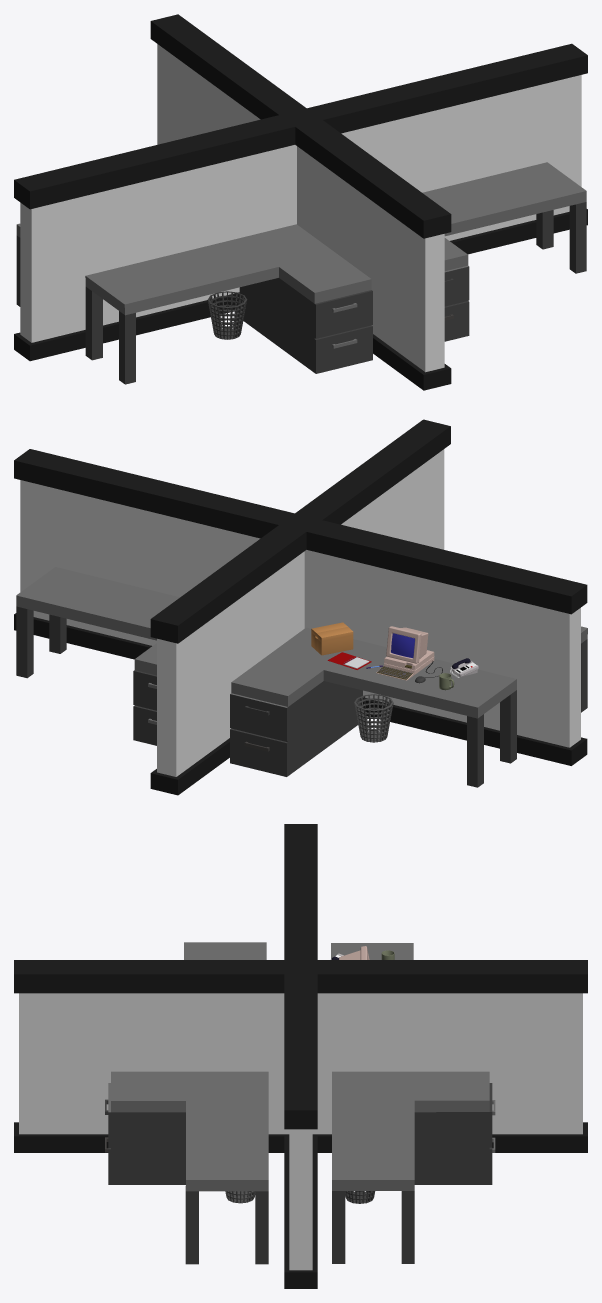
3 renders of one model, top to bottom at view 1: azimuth 30°, elevation 25°; view 2: azimuth 150°, elevation 25°; view 3: azimuth 270°, elevation 25°, orthographic. The views are drawn at different scales.
Visible parts, largest first — view 1: Cube.059; view 2: Cube.059, Cube.019, Cube.129; view 3: Cube.059.
Boxes of the visible parts, x1,y1,x2,y2 form: Cube.059: [14, 14, 587, 390]; Cube.059: [14, 419, 587, 795]; Cube.019: [376, 626, 442, 683]; Cube.129: [311, 622, 353, 655]; Cube.059: [14, 824, 587, 1288].
Bounding box in the file's own units: 951 × 326 × 1122.
